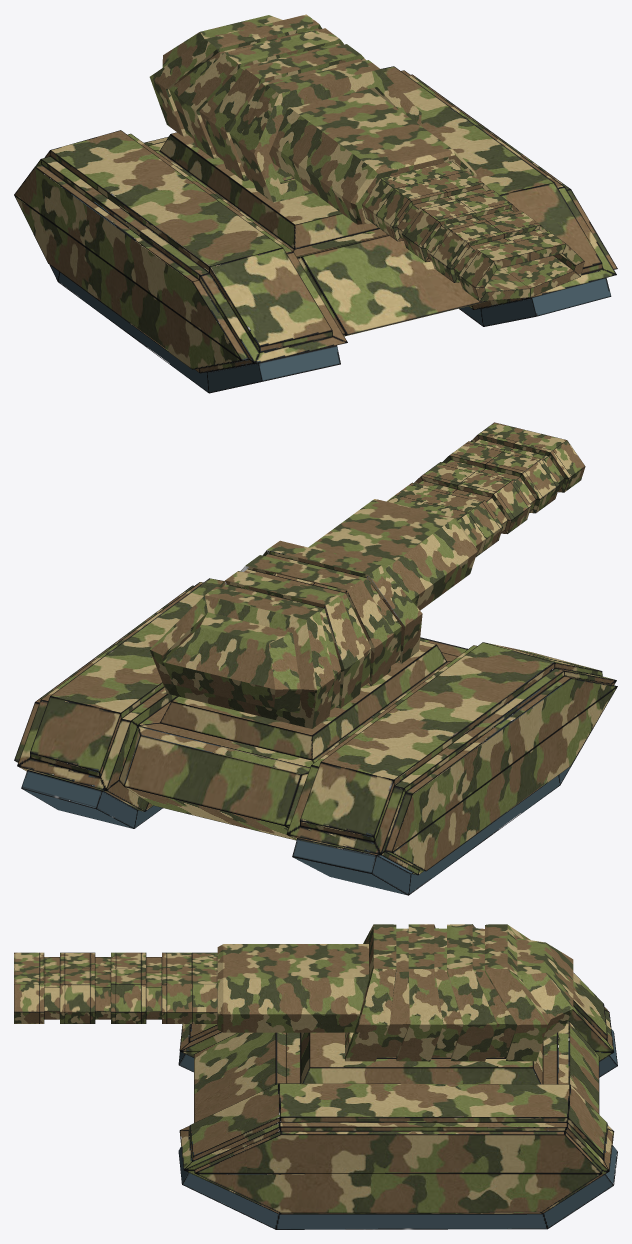
The model's file is Tank.obj.
3 renders of one model, top to bottom at view 1: azimuth 30°, elevation 25°; view 2: azimuth 150°, elevation 25°; view 3: azimuth 270°, elevation 25°, orthographic. The views are drawn at different scales.
Visible parts, largest first — view 1: Cube, Cube.004, Cube.001; view 2: Cube, Cube.004, Cube.001; view 3: Cube, Cube.004, Cube.001.
Part boxes in pixels (x1,y1,x2,y2): Cube: (14,66,617,393); Cube.004: (149,14,476,224); Cube.001: (362,161,584,301); Cube: (14,578,617,895); Cube.004: (149,499,477,728); Cube.001: (386,422,585,556); Cube: (178,972,617,1229); Cube.004: (217,924,573,1061); Cube.001: (14,952,217,1023).
Bounding box in the file's own units: 6.91 × 4.01 × 10.61.
Materials: 3 (3 with a texture image).
